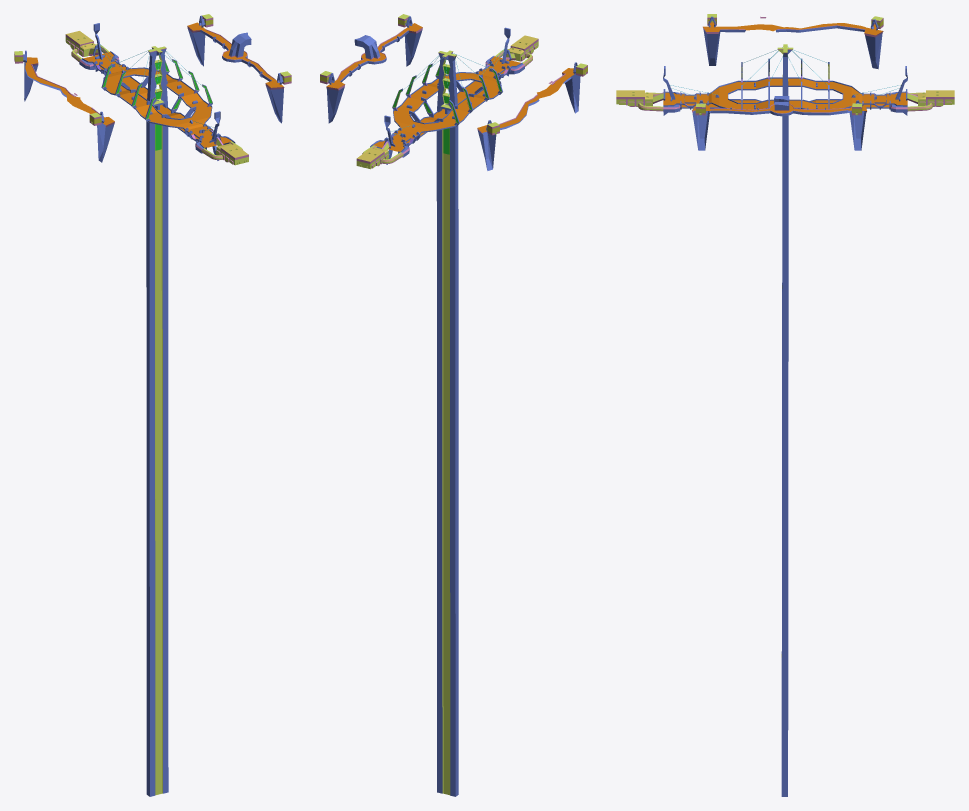
The model's file is level_collision_metal.fbx.
3 views of the same model, side by side, from view 1: azimuth 30°, elevation 25°; view 2: azimuth 150°, elevation 25°; view 3: azimuth 270°, elevation 25° (orthographic).
Visible parts, largest first — view 1: level_collision_metal; view 2: level_collision_metal; view 3: level_collision_metal.
Part boxes in pixels (x1,y1,x2,y2): level_collision_metal: (14, 14, 291, 796); level_collision_metal: (320, 14, 587, 796); level_collision_metal: (616, 14, 954, 796).
Size of the model in its own units: 1068861 by 3915763 by 1613939.
